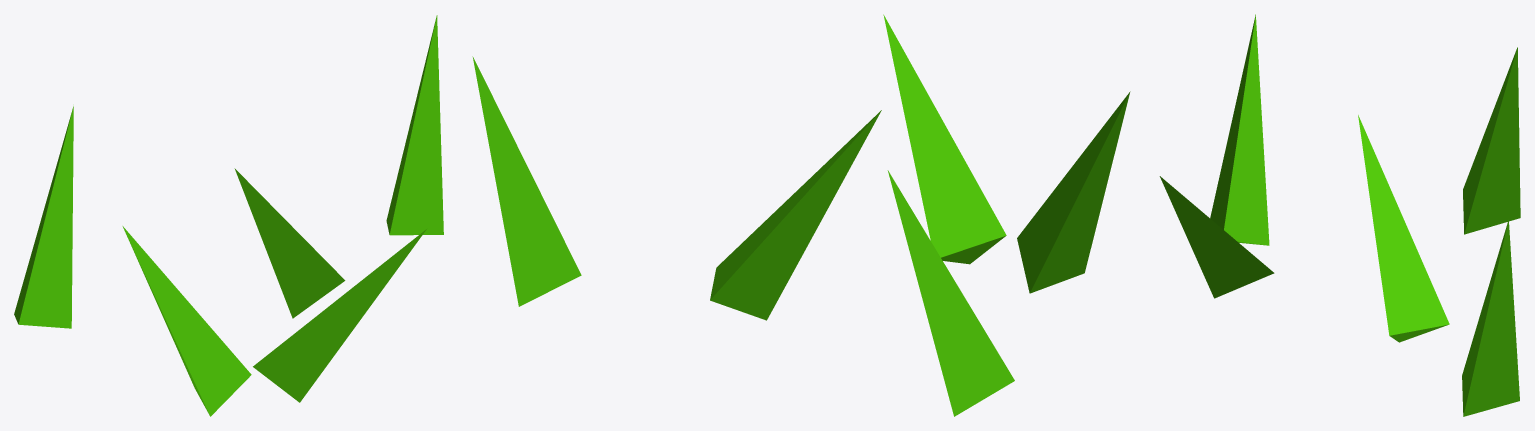
File: grass.obj
3 views of the same model, side by side, from view 1: azimuth 30°, elevation 25°; view 2: azimuth 150°, elevation 25°; view 3: azimuth 270°, elevation 25° (orthographic). The views are drawn at different scales.
Parts seen in each view (by area): view 1: Cone.001; view 2: Cone.001; view 3: Cone.001.
Part boxes in pixels (x1=…): Cone.001: x1=14, y1=15, x2=443, y2=416; Cone.001: x1=472, y1=14, x2=1130, y2=416; Cone.001: x1=1159, y1=14, x2=1520, y2=416.
Bounding box in the file's own units: 5.43 × 2.56 × 3.76.
